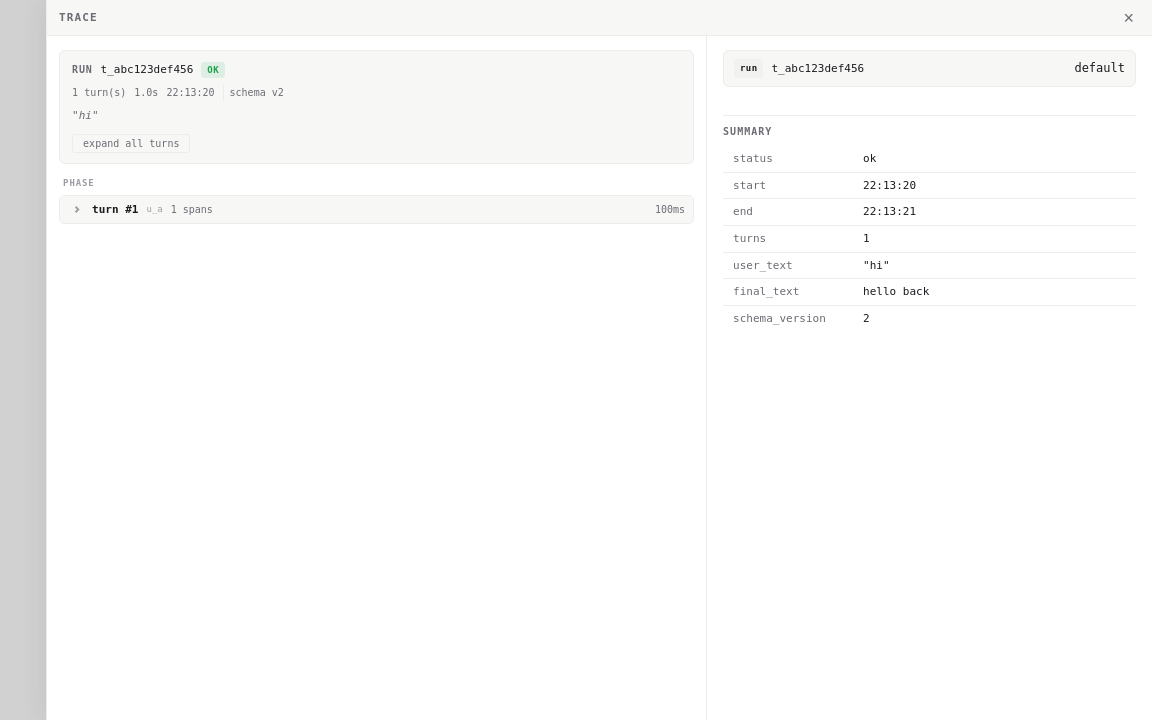
Test: TraceDrawer v2 trace shape › expanding a turn shows its child span nodes
Expected: the element with class "trace-tree-turn" is shown, [59,195,694,224]
Note: 点 chevron 展开
Click the button with class "trace-chev". click: [76, 210]
box: [71,204,82,215]
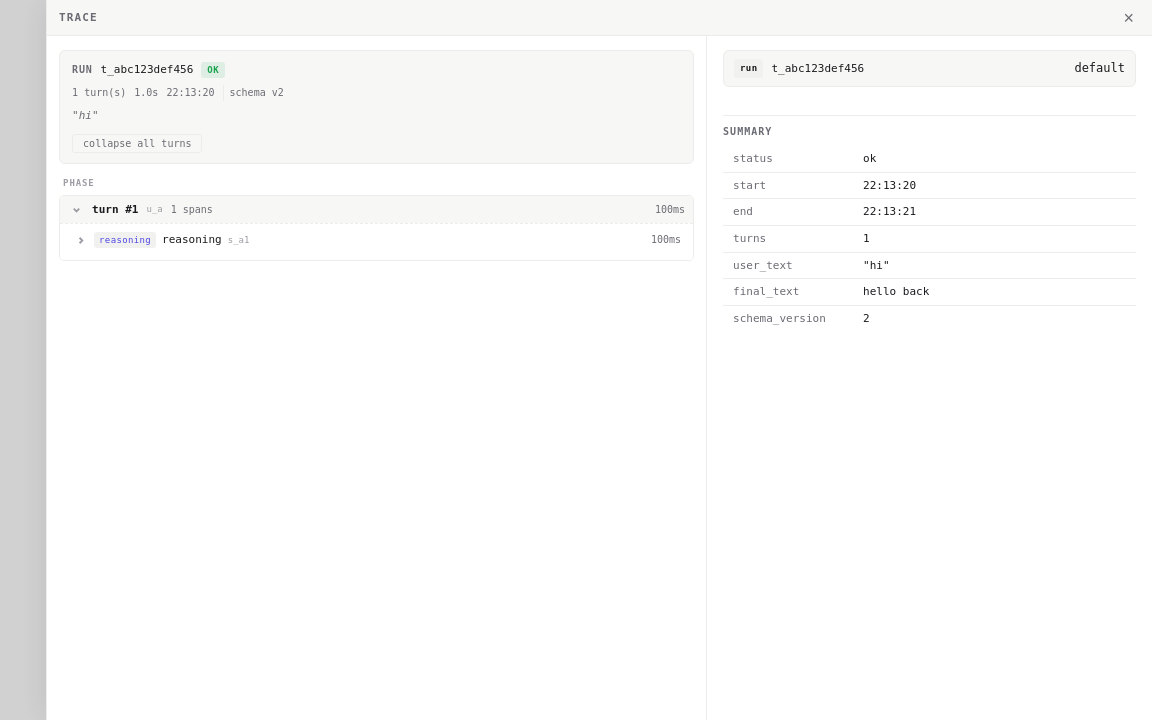
Now the element with class "trace-tree-turn-body" is shown, box [60,223,693,260]
Now the element with class "trace-tree-span" is shown, box [66,228,687,252]
